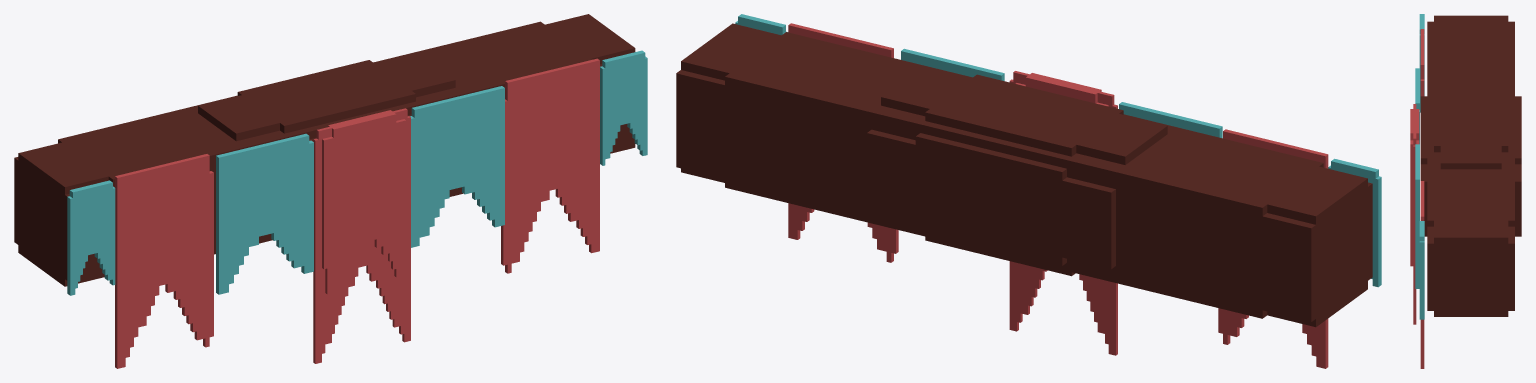
Rendered from Obstacle.fbx.
3 renders of one model, left to right at view 1: azimuth 30°, elevation 25°; view 2: azimuth 150°, elevation 25°; view 3: azimuth 270°, elevation 25°, orthographic. The views are drawn at different scales.
Visible parts, largest first — view 1: Cube, Plane.002, Plane.001, Plane, Plane.003; view 2: Cube, Plane.002, Plane, Plane.001, Plane.003; view 3: Cube, Plane, Plane.001, Plane.003, Plane.002.
Boxes of the visible parts, x1,y1,x2,y2 form: Cube: [14, 14, 635, 286]; Plane.002: [115, 58, 599, 368]; Plane.001: [216, 86, 504, 294]; Plane: [313, 108, 410, 363]; Plane.003: [67, 50, 647, 295]; Cube: [676, 23, 1372, 327]; Plane.002: [788, 23, 1328, 368]; Plane: [1009, 71, 1117, 355]; Plane.001: [901, 48, 1222, 138]; Plane.003: [735, 14, 1381, 287]; Cube: [1420, 15, 1521, 316]; Plane: [1410, 104, 1419, 324]; Plane.001: [1415, 68, 1419, 288]; Plane.003: [1419, 14, 1424, 319]; Plane.002: [1420, 29, 1424, 368].
Bounding box in the file's own units: 1217 × 469 × 255.
